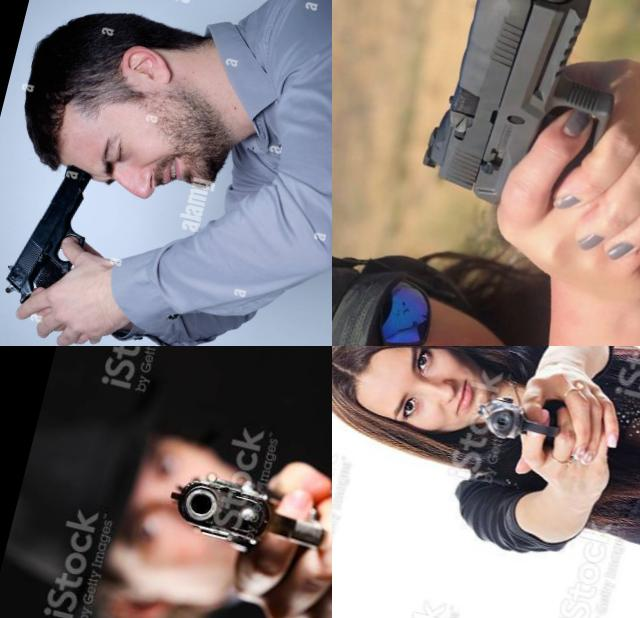handgun: (404, 0, 640, 286), (157, 456, 332, 601), (0, 151, 111, 322), (470, 386, 573, 454)
